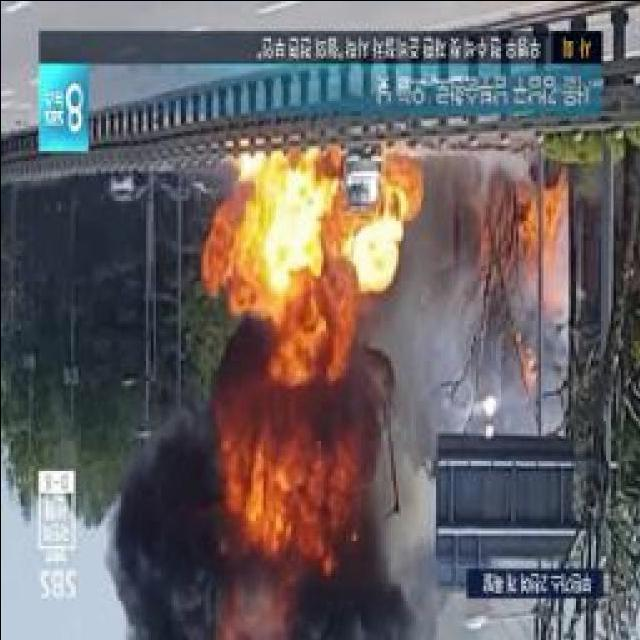Fire: (216, 143, 401, 324)
